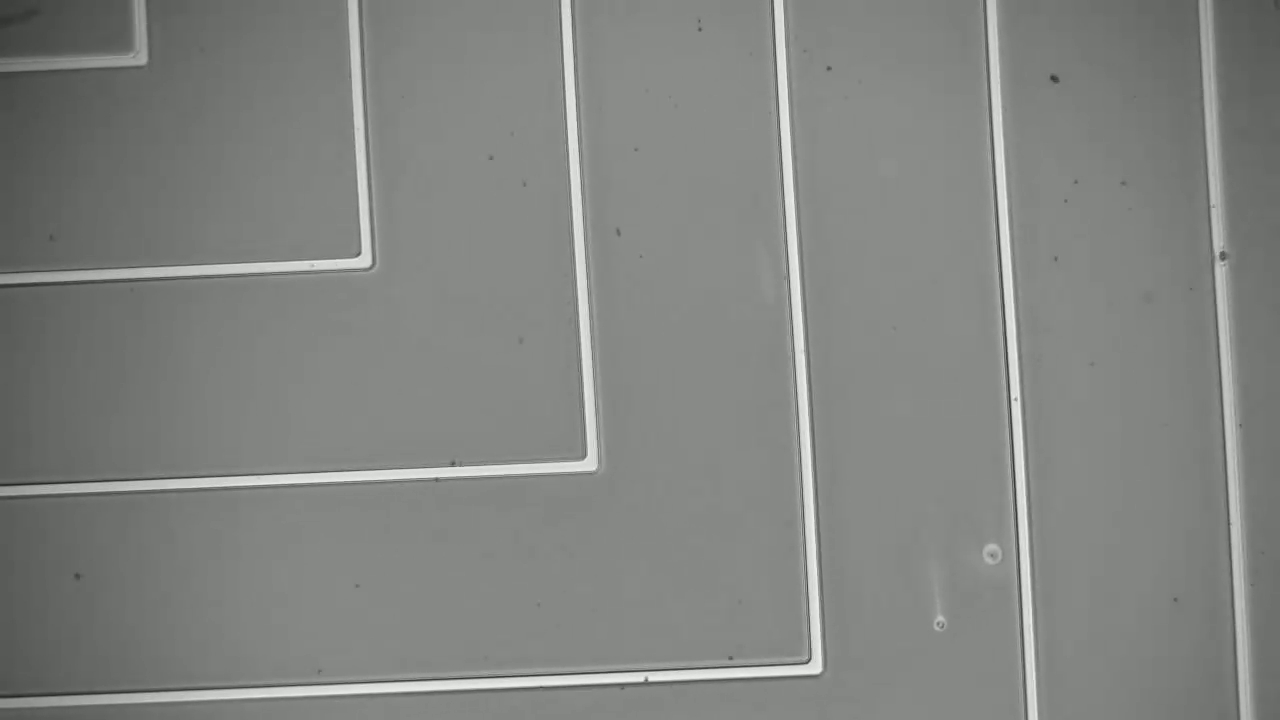stains_enbedded: (1207, 243, 1238, 268)
